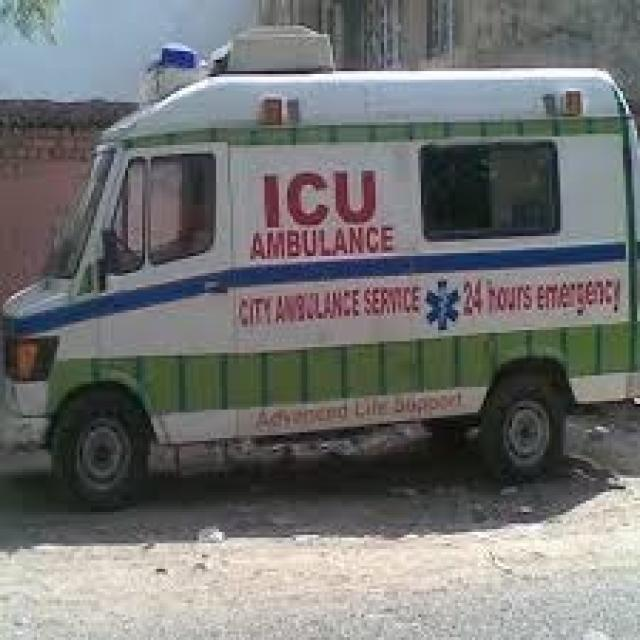ambulance: (0, 62, 633, 481)
